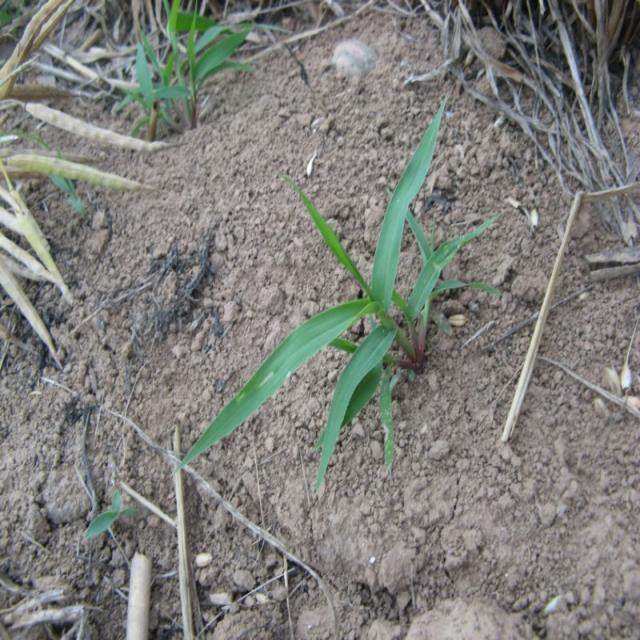bg: (184, 99, 509, 495)
